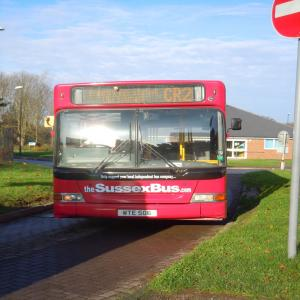Vehicle-registration-plate: (118, 210, 158, 218)
